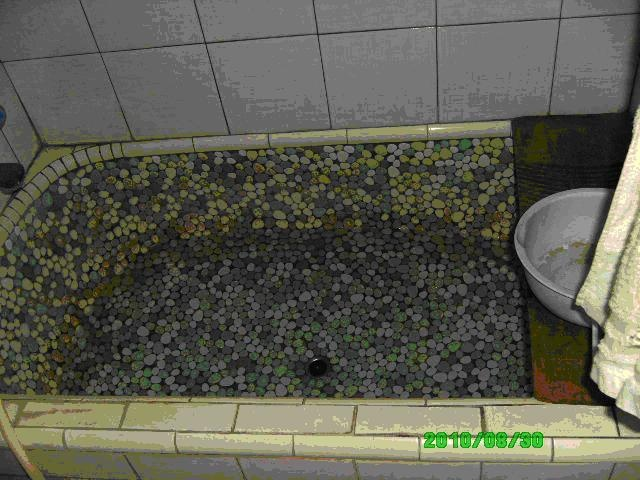bowl: (512, 186, 615, 328)
tub: (1, 121, 639, 480)
